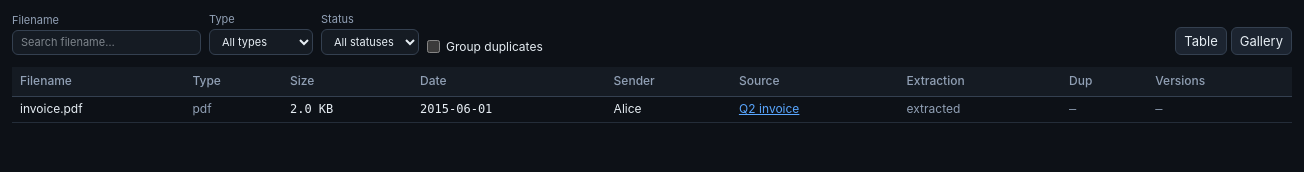
FilesPage › filters re-query on family/status change
This screenshot has width=1304, height=172.
Expected: the row with test id "file-row-att_1" is shown, [12,97,1292,122]
Step 1. Select "Image" in the dropdown with test id "files-family" → (261, 42), box [209,29,313,55]
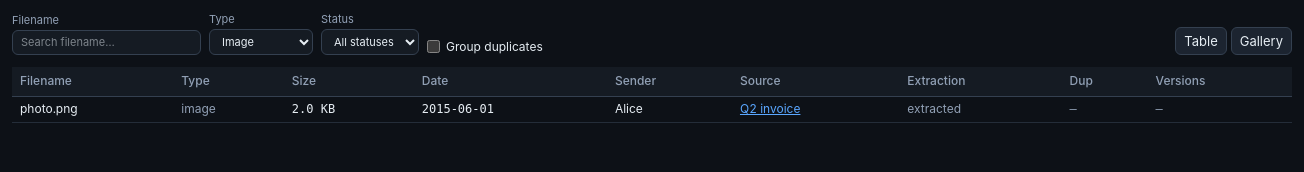
Expected: the row with test id "file-row-att_img" is shown, [12,97,1292,122]
